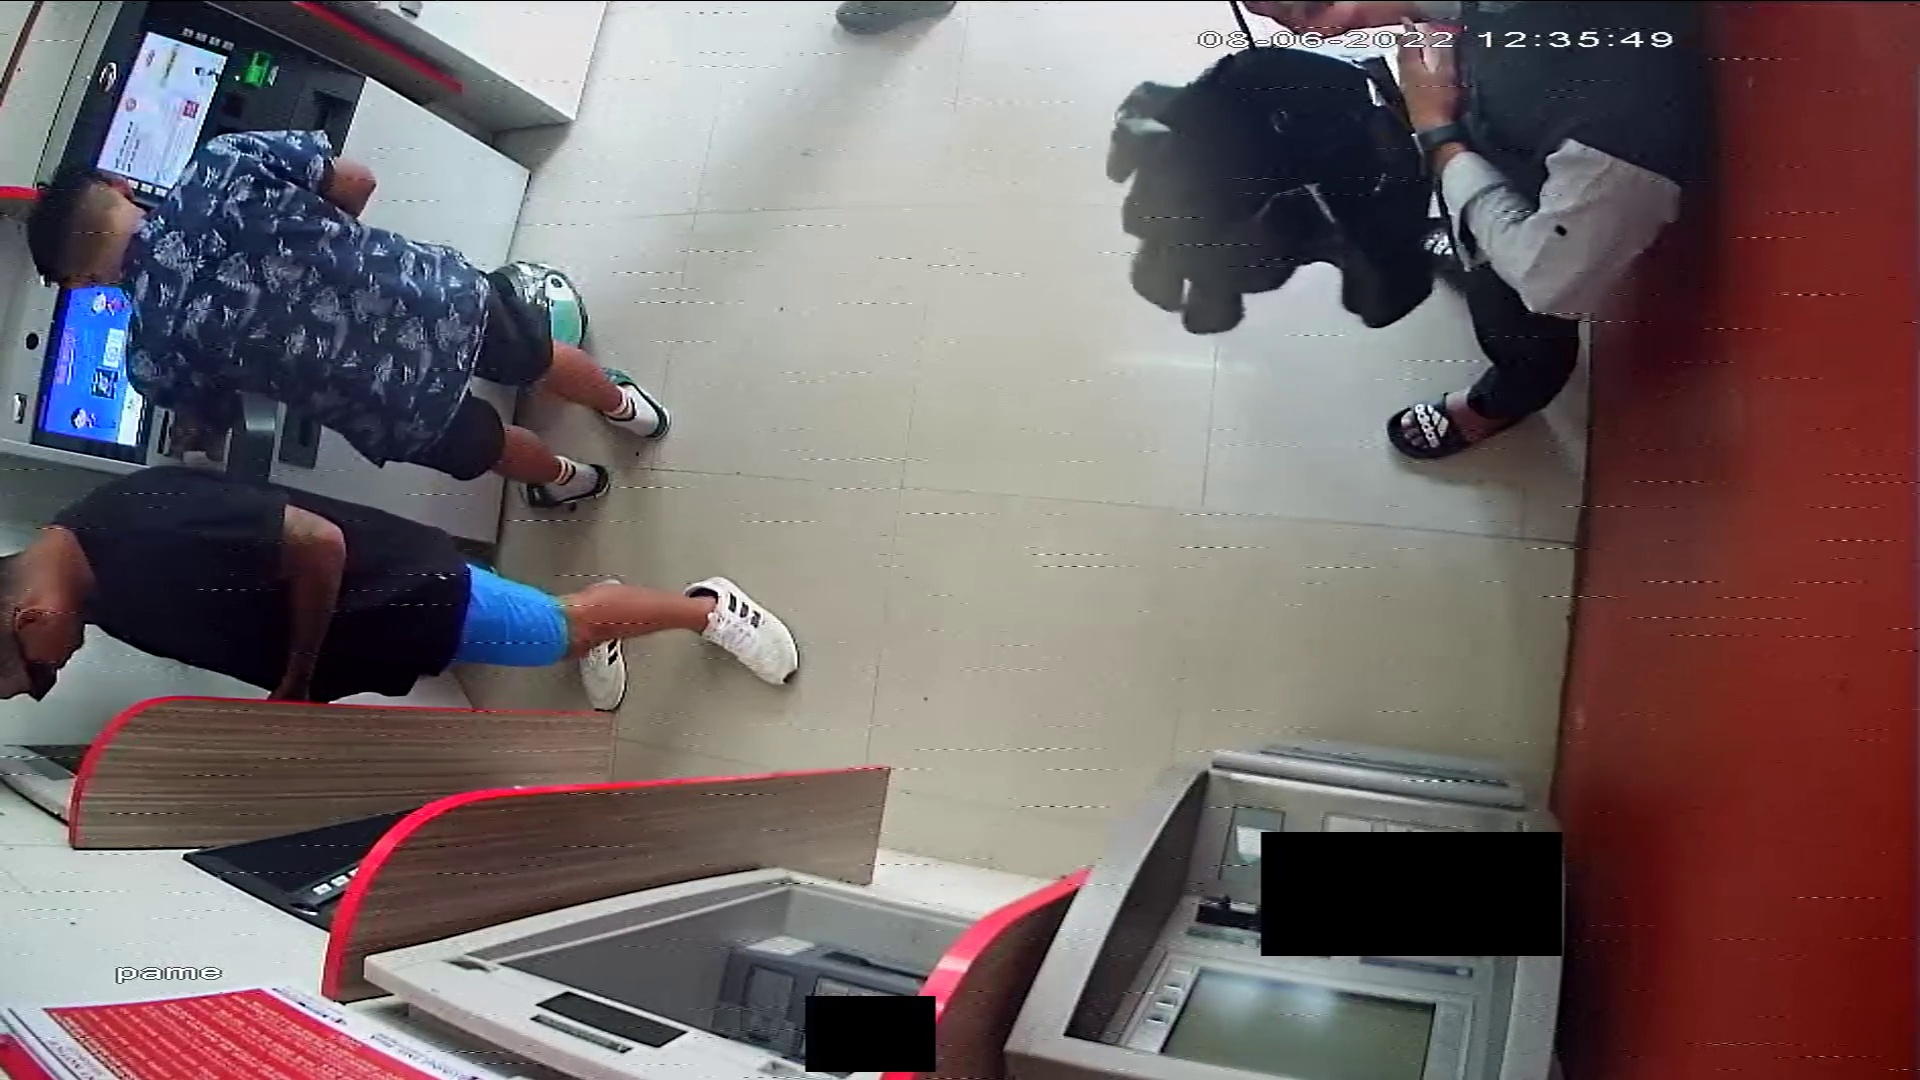helmet: (488, 259, 591, 349)
person: (27, 126, 675, 512), (1, 464, 799, 712), (1359, 1, 1707, 458)
